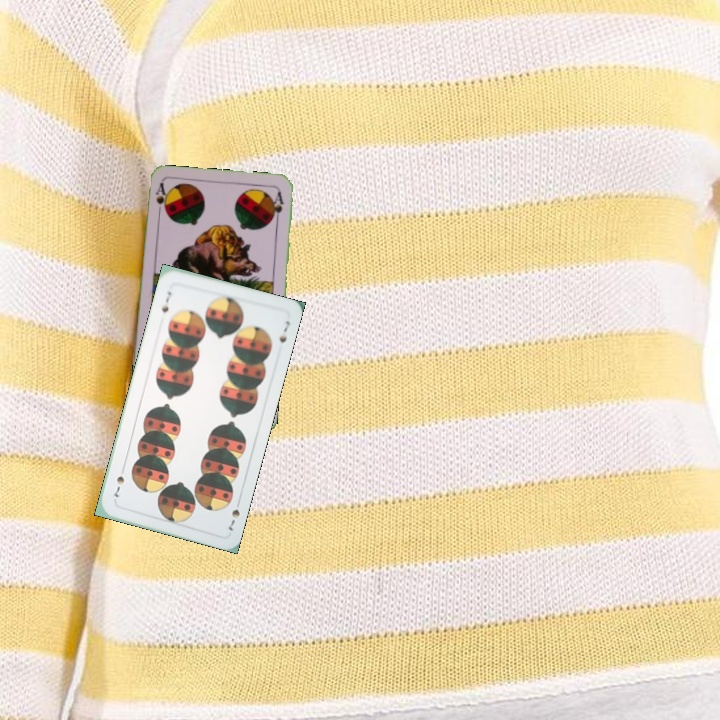S7: (224, 505, 242, 534), (157, 287, 174, 315)
SA: (151, 179, 168, 220)
